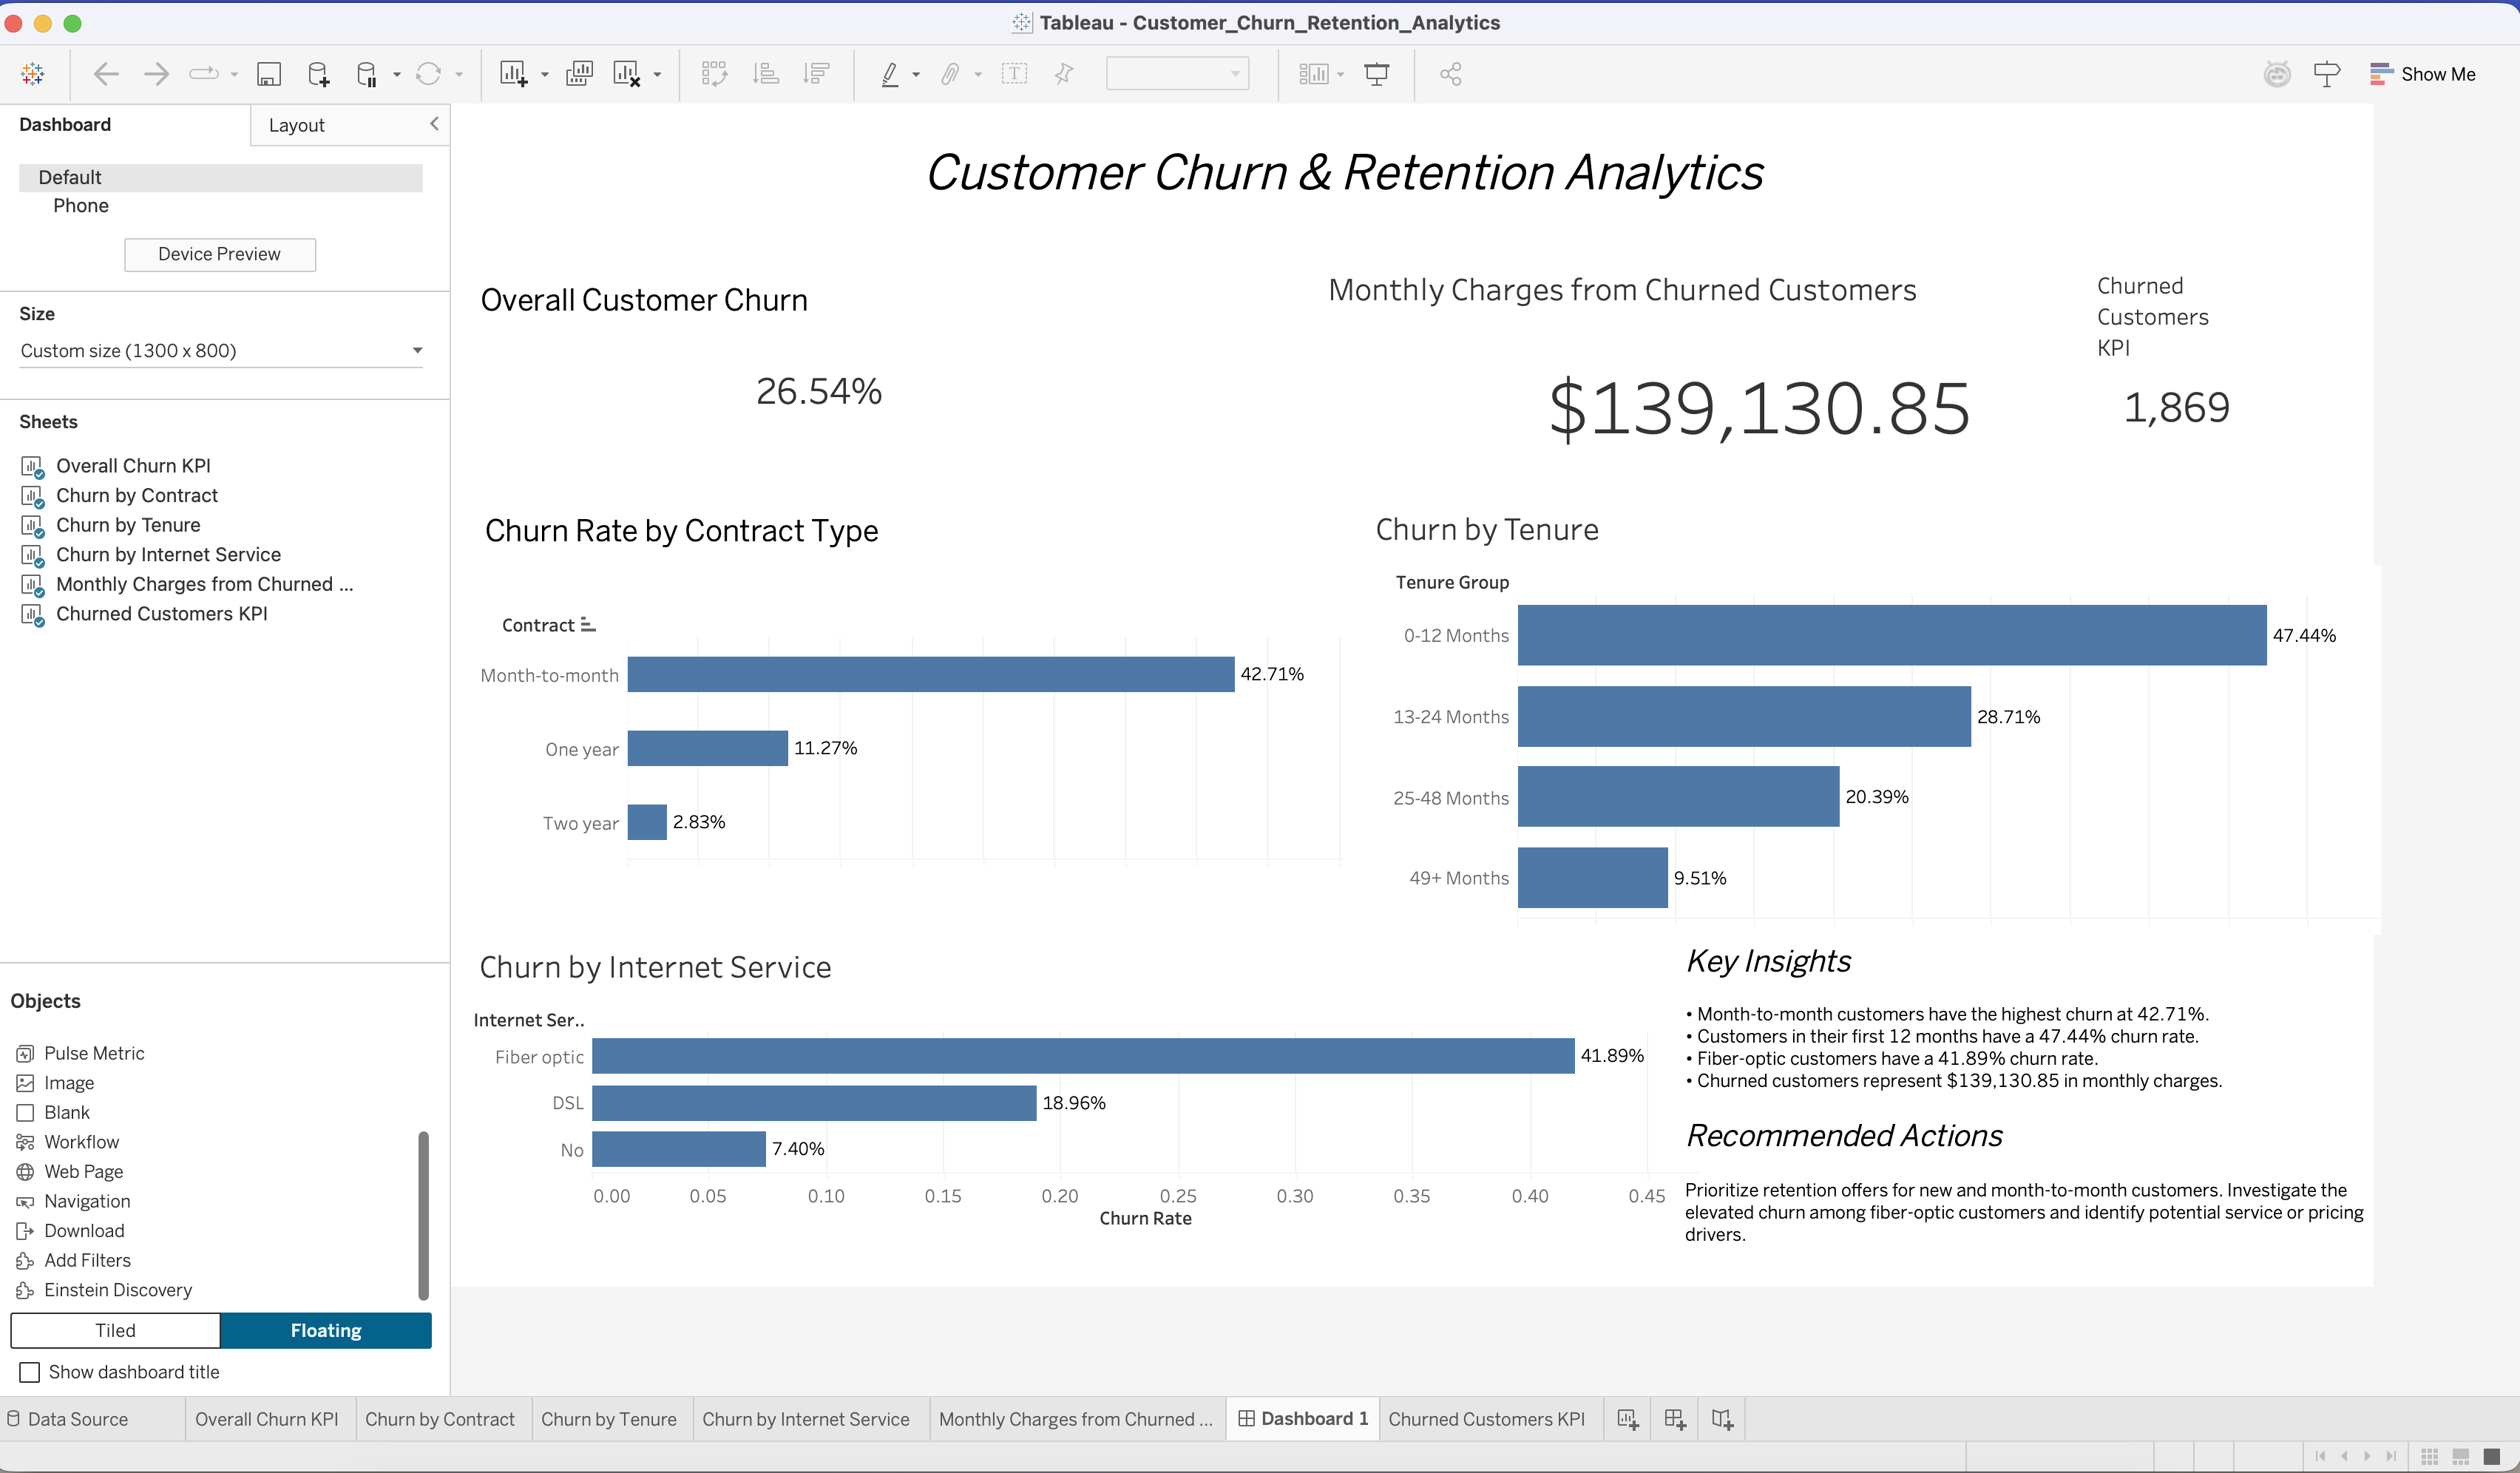

Layout of this report page (visuals, bound fields, positions):
{"tool":"tableau","page":{"name":"Dashboard 1","canvas":[1300,800],"ordinal":0},"visuals":[{"type":"title","box":[317,19,897,55]},{"type":"worksheet","title":"Monthly Charges from Churned Customers","mark":"Automatic","box":[589,107,444,151]},{"type":"worksheet","title":"Overall Churn KPI","mark":"Text","box":[16,116,281,115]},{"type":"worksheet","title":"Churn by Tenure","mark":"Automatic","rows":["Calculation_0697956358336515"],"cols":["Calculation_0697956348792834"],"box":[621,269,684,293]},{"type":"worksheet","title":"Churn by Contract","mark":"Automatic","rows":["Contract"],"cols":["Calculation_0697956348792834"],"box":[19,272,584,249]},{"type":"worksheet","title":"Churn by Internet Service","mark":"Automatic","rows":["InternetService"],"cols":["Calculation_0697956348792834"],"box":[15,565,830,197]}]}

Visuals, with their boxes on the page's 1300x800 design canvas (x1, y1, x2, y2). These are canvas units, not pixel positions in the 2520x1473 screenshot, which may show the page scaled, cropped or inside an application window:
title: rect(317, 19, 1214, 74)
"Monthly Charges from Churned Customers" worksheet: rect(589, 107, 1033, 258)
"Overall Churn KPI" worksheet (Text marks): rect(16, 116, 297, 231)
"Churn by Tenure" worksheet: rect(621, 269, 1305, 562)
"Churn by Contract" worksheet: rect(19, 272, 603, 521)
"Churn by Internet Service" worksheet: rect(15, 565, 845, 762)
